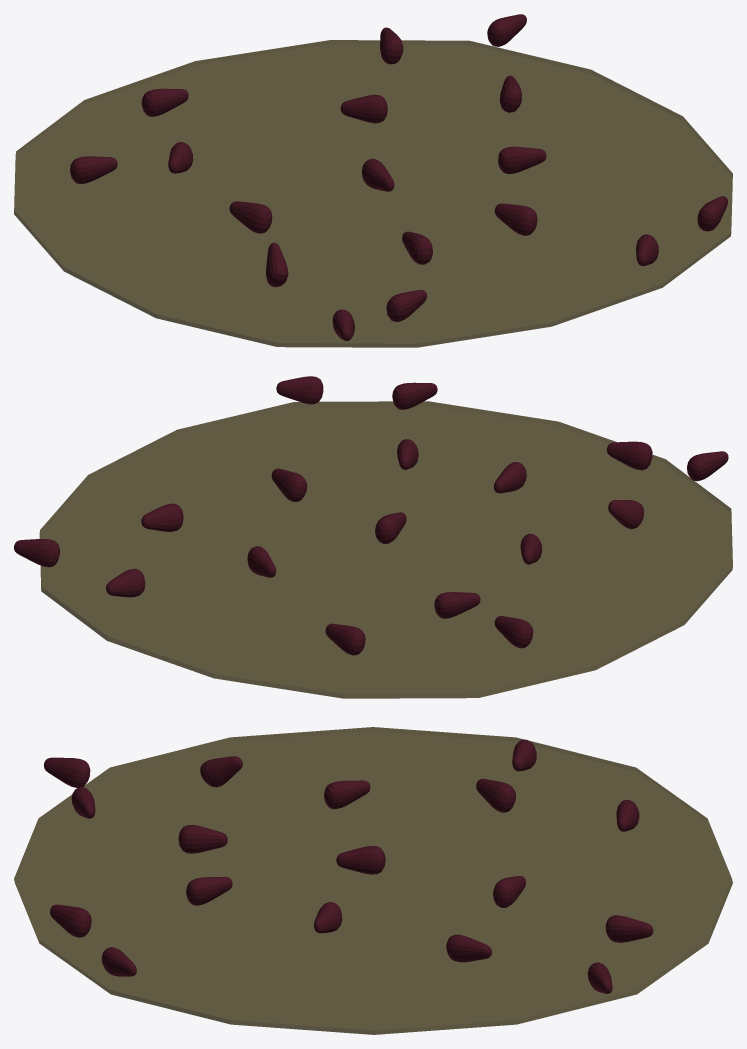
The model's file is SeedRedRaw.fbx.
The picture shows the model from 3 angles, top to bottom: view 1: azimuth 30°, elevation 25°; view 2: azimuth 150°, elevation 25°; view 3: azimuth 270°, elevation 25°; orthographic projection. The views are drawn at different scales.
Parts seen in each view (by area): view 1: SeedRed; view 2: SeedRed; view 3: SeedRed.
Boxes of the visible parts, <box> form: SeedRed: <box>14,14,732,347</box>; SeedRed: <box>14,376,732,698</box>; SeedRed: <box>14,727,732,1034</box>.
Size of the model in its own units: 138 by 9.35 by 138.
